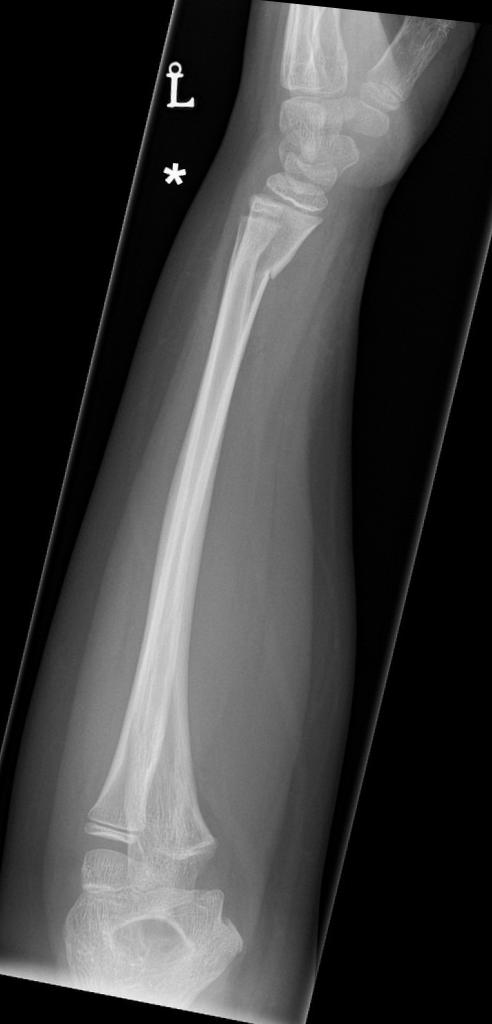line: (260, 258, 282, 286)
